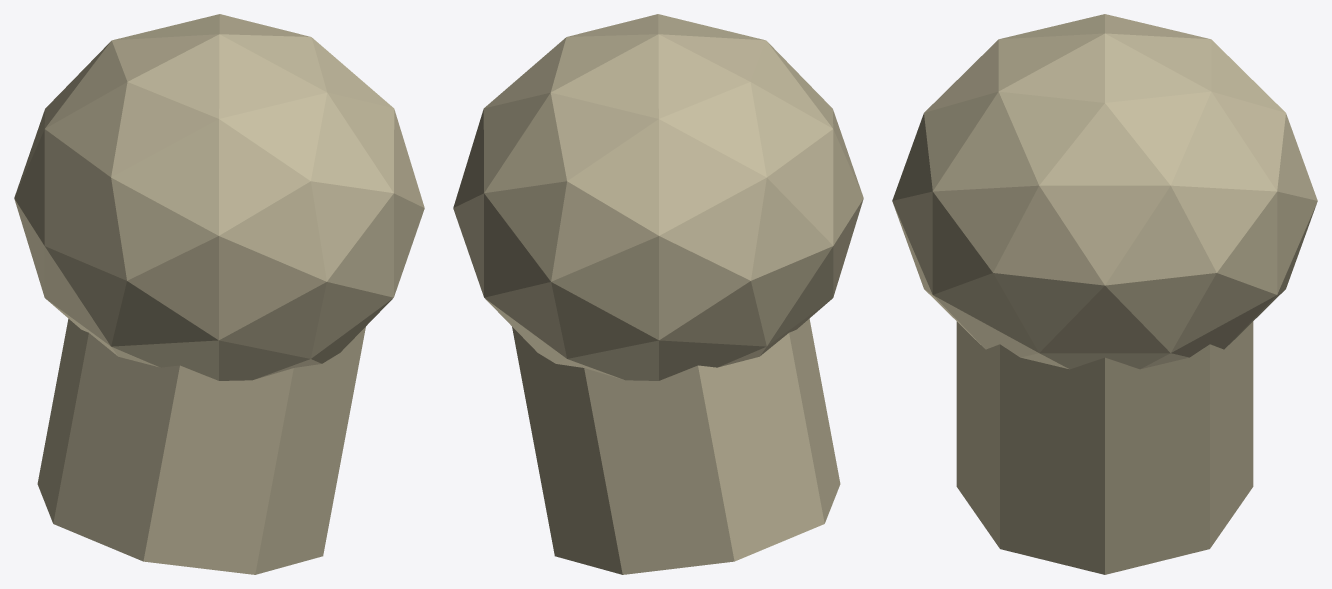
File: ArmLeft.glb
3 views of the same model, side by side, from view 1: azimuth 30°, elevation 25°; view 2: azimuth 150°, elevation 25°; view 3: azimuth 270°, elevation 25° (orthographic).
Visible parts, largest first — view 1: Sculpture; view 2: Sculpture; view 3: Sculpture.
Part boxes in pixels (box(x1,y1,x2,y2)): Sculpture: box(14, 14, 424, 574); Sculpture: box(453, 14, 863, 574); Sculpture: box(892, 14, 1317, 574).
Bounding box in the file's own units: 0.286 × 0.3932 × 0.304.
